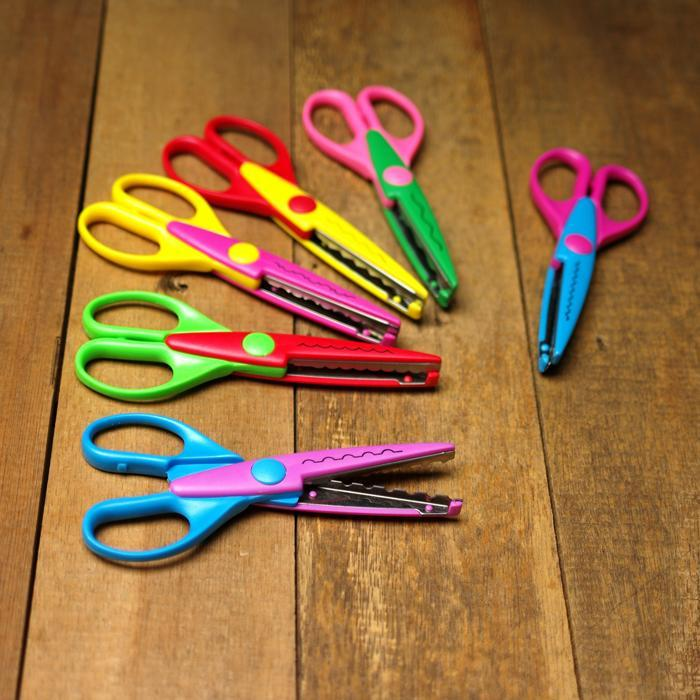scissor: (107, 32, 612, 609)
